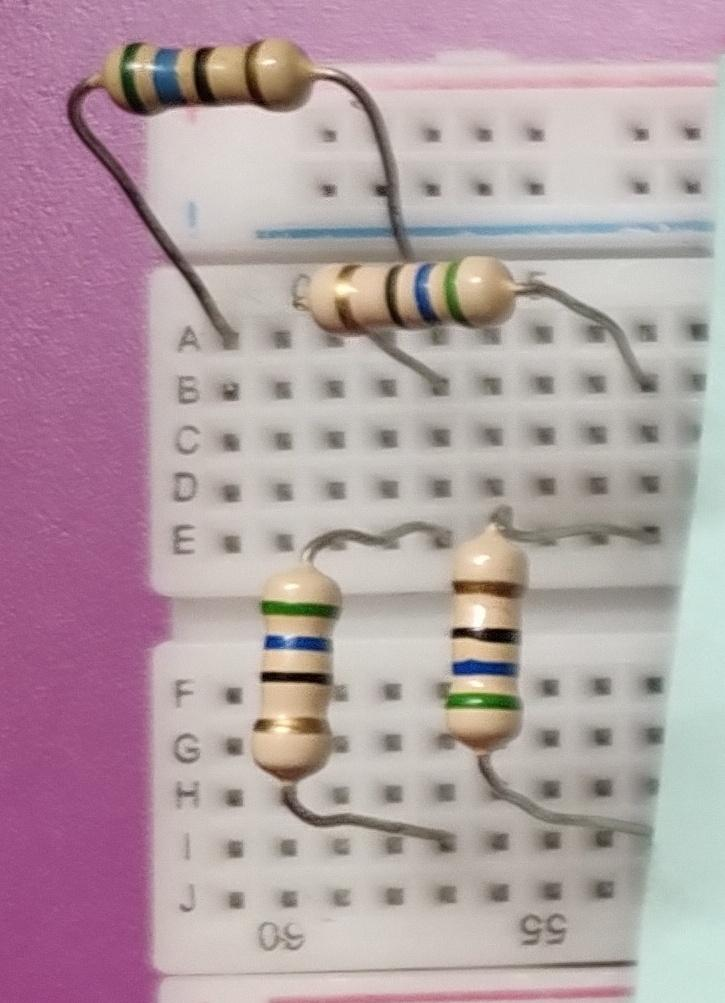resistor: (285, 228, 548, 352), (110, 18, 325, 145), (245, 548, 352, 800), (442, 528, 530, 770)
